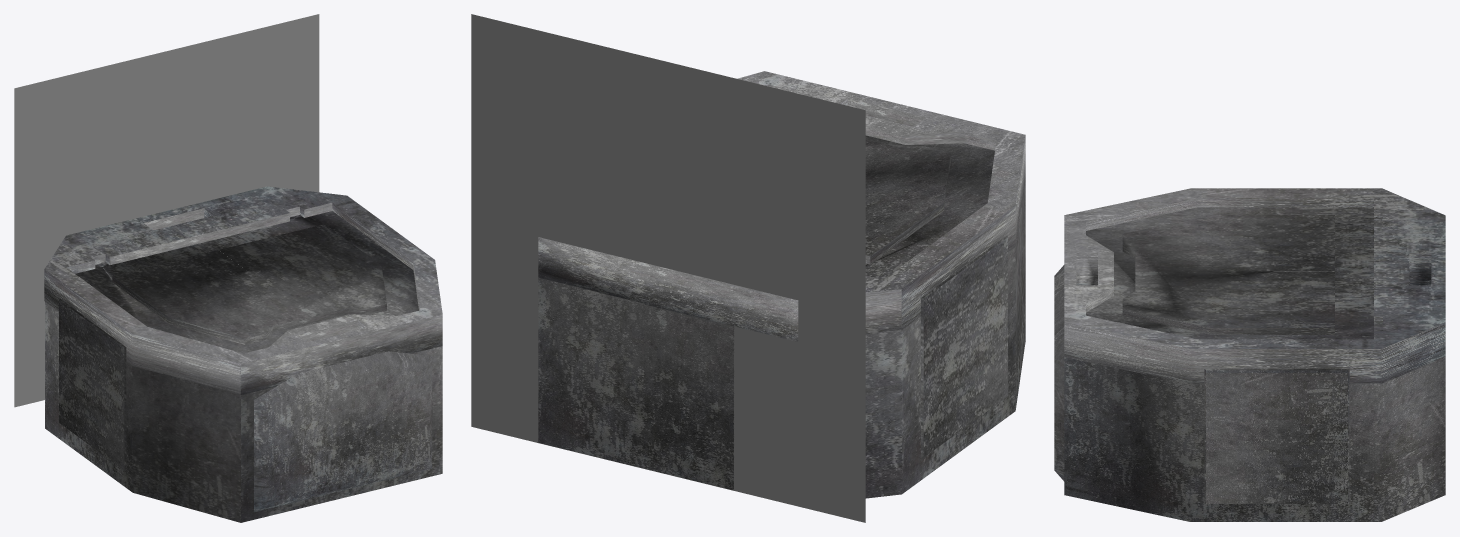
Rendered from EndCap.obj.
3 renders of one model, left to right at view 1: azimuth 30°, elevation 25°; view 2: azimuth 150°, elevation 25°; view 3: azimuth 270°, elevation 25°, orthographic. The views are drawn at different scales.
Visible parts, largest first — view 1: Mesh79, Plane04, Box48, Line08, Box1052; view 2: Plane04, Line08, Mesh79, Box1052; view 3: Mesh79, Line08, Box47, Box48.
Boxes of the visible parts, x1=… form: Mesh79: x1=44, y1=186, x2=442, y2=394; Plane04: x1=14, y1=14, x2=319, y2=407; Box48: x1=254, y1=351, x2=432, y2=512; Line08: x1=45, y1=302, x2=442, y2=522; Box1052: x1=59, y1=298, x2=126, y2=470; Plane04: x1=471, y1=14, x2=865, y2=522; Line08: x1=538, y1=176, x2=1025, y2=498; Mesh79: x1=538, y1=71, x2=1025, y2=341; Box1052: x1=921, y1=235, x2=1007, y2=458; Mesh79: x1=1064, y1=188, x2=1445, y2=383; Line08: x1=1064, y1=356, x2=1445, y2=521; Box47: x1=1204, y1=368, x2=1349, y2=503; Box48: x1=1054, y1=265, x2=1064, y2=481.
Bounding box in the file's own units: 39.38 × 39.46 × 40.21.
